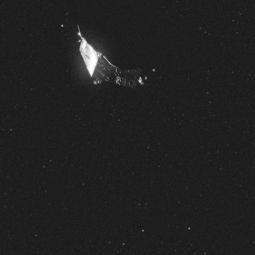lisa_pathfinder: (50, 16, 171, 100)
